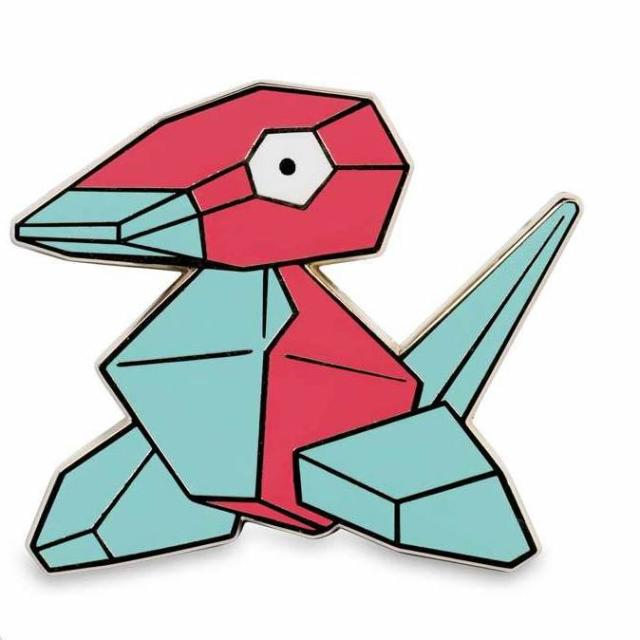Porygon: (30, 84, 531, 580)
